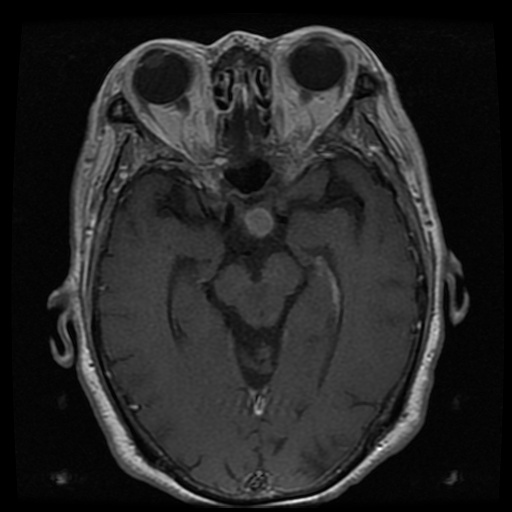pituitary: (241, 203, 275, 238)
